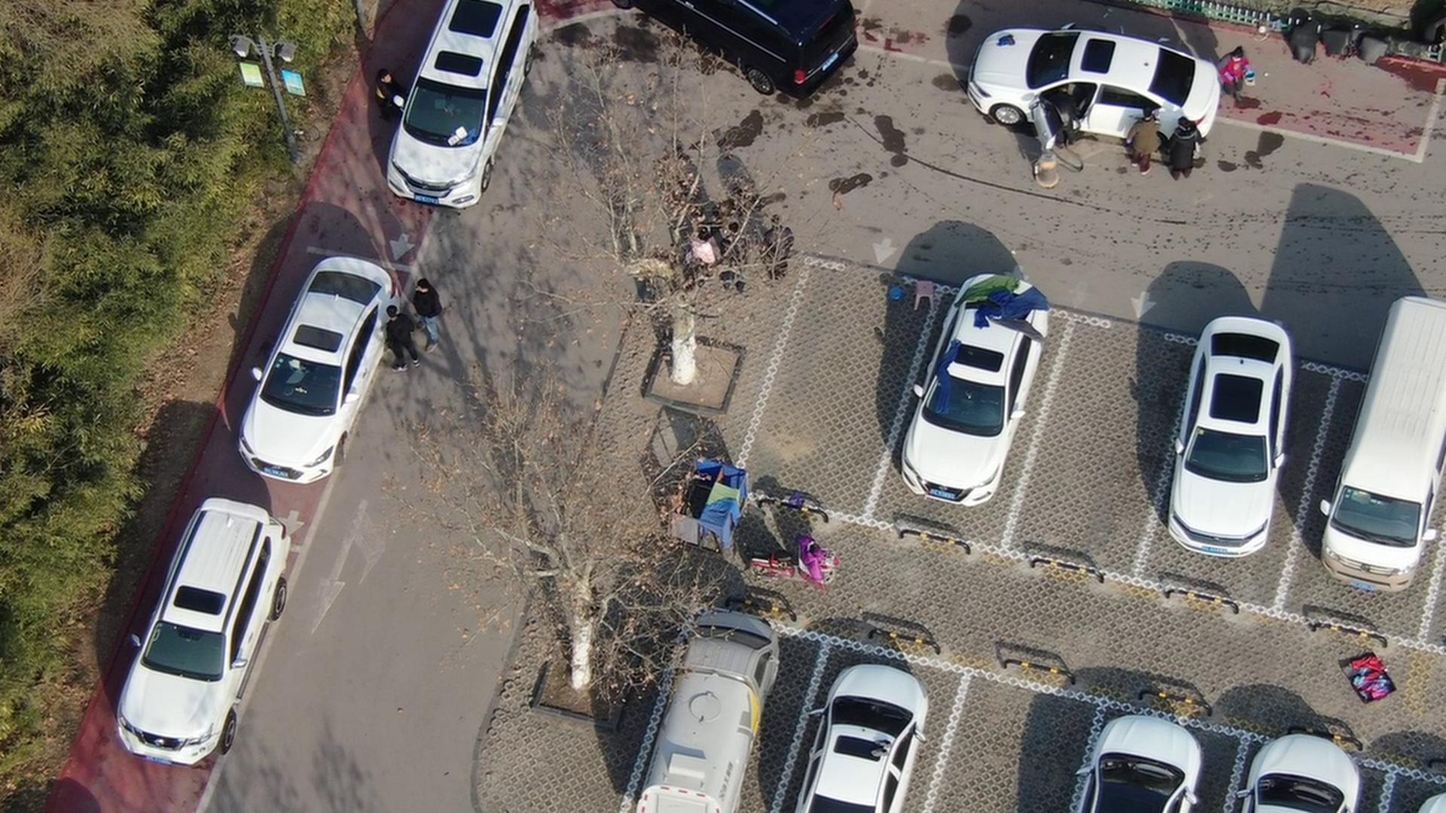human: (1171, 101, 1211, 187), (760, 206, 805, 279), (1128, 102, 1173, 172), (718, 215, 755, 294), (416, 269, 449, 355), (1218, 39, 1259, 105), (386, 297, 416, 373), (378, 56, 412, 123), (1053, 79, 1084, 148)
